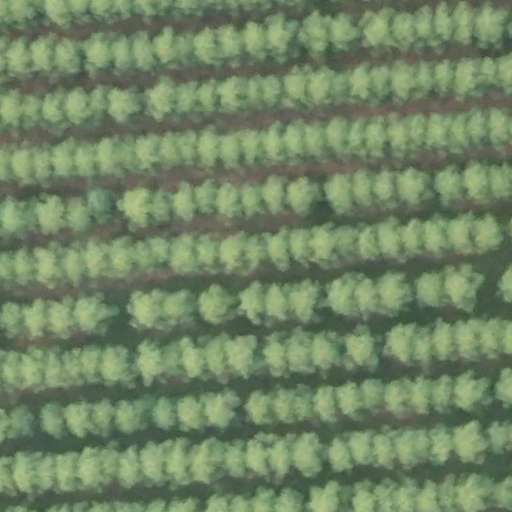eucalipto: (195, 280, 244, 326), (442, 263, 483, 314), (121, 285, 165, 332), (373, 270, 412, 320), (279, 173, 322, 218), (301, 221, 342, 268), (339, 325, 380, 372), (348, 271, 385, 322), (473, 1, 509, 52), (191, 435, 227, 486), (396, 162, 434, 210), (72, 293, 114, 336), (430, 161, 466, 211), (200, 388, 241, 431), (270, 384, 312, 425), (449, 423, 490, 465), (323, 9, 363, 52), (378, 212, 409, 267), (116, 184, 152, 230), (320, 170, 354, 218), (453, 371, 490, 415), (358, 5, 394, 50), (264, 12, 297, 61), (290, 432, 325, 478), (289, 278, 323, 325), (226, 332, 259, 380), (161, 437, 192, 488), (295, 10, 330, 55), (284, 323, 313, 377), (136, 338, 167, 388), (165, 228, 197, 276), (74, 443, 106, 491), (138, 440, 168, 491), (462, 159, 493, 208), (263, 224, 294, 273), (325, 270, 356, 319), (303, 65, 338, 108), (215, 75, 250, 118), (8, 140, 39, 188), (35, 192, 68, 237), (35, 396, 67, 442), (85, 183, 120, 225), (50, 34, 83, 78), (100, 342, 133, 386), (192, 228, 222, 276), (160, 287, 196, 327), (308, 378, 338, 426), (256, 173, 289, 216), (446, 213, 476, 260), (452, 52, 479, 104), (413, 270, 447, 311), (9, 449, 38, 497), (330, 380, 363, 422), (379, 378, 411, 421), (261, 332, 289, 381), (453, 318, 484, 362), (386, 325, 419, 366), (128, 30, 158, 75), (391, 59, 421, 104), (469, 53, 501, 95), (168, 175, 196, 223), (429, 317, 457, 365), (115, 444, 143, 492), (26, 31, 55, 77), (447, 1, 476, 47), (84, 31, 115, 74), (211, 179, 242, 222), (46, 296, 77, 339), (194, 124, 221, 173), (237, 278, 264, 327), (178, 336, 208, 380), (173, 390, 203, 434), (217, 228, 245, 275), (367, 167, 399, 208), (470, 214, 506, 250), (358, 220, 386, 266), (427, 372, 455, 418), (241, 387, 272, 428), (241, 16, 268, 63), (6, 35, 34, 80), (146, 78, 174, 123), (108, 86, 143, 122), (60, 242, 88, 287), (34, 244, 62, 289), (425, 424, 453, 469), (268, 435, 294, 483), (347, 59, 376, 102), (388, 9, 418, 50), (262, 281, 291, 323), (61, 196, 93, 234), (51, 448, 78, 493), (191, 26, 219, 69), (288, 223, 314, 269), (152, 25, 179, 69), (238, 179, 266, 221), (422, 215, 450, 257), (393, 430, 421, 472), (244, 437, 272, 479), (384, 112, 409, 159), (239, 226, 262, 277), (217, 22, 243, 67), (282, 66, 308, 111), (309, 332, 339, 371), (428, 1, 455, 44), (48, 138, 75, 181), (347, 165, 374, 208), (20, 297, 47, 340), (412, 1, 436, 49), (108, 232, 133, 278), (134, 130, 162, 171), (129, 235, 157, 276), (259, 119, 285, 163), (83, 234, 109, 278), (93, 135, 120, 177), (346, 428, 375, 467), (327, 113, 351, 160), (146, 186, 174, 226), (369, 431, 397, 471), (57, 345, 84, 386), (426, 112, 450, 158), (359, 377, 388, 415), (80, 343, 105, 387), (223, 437, 248, 481), (113, 398, 140, 438), (31, 139, 53, 188), (113, 130, 138, 173), (7, 403, 36, 440), (65, 86, 91, 127), (283, 117, 307, 161), (172, 78, 199, 117), (303, 120, 328, 162), (220, 131, 245, 173), (42, 85, 68, 125), (432, 56, 455, 101), (402, 216, 425, 261), (42, 346, 65, 391), (151, 393, 178, 431), (327, 437, 354, 475), (9, 246, 35, 285), (466, 106, 488, 152), (64, 402, 92, 438), (72, 138, 97, 178), (158, 129, 181, 172), (110, 34, 134, 75), (349, 114, 369, 163), (330, 68, 355, 107), (90, 398, 115, 437), (407, 377, 432, 416), (448, 110, 470, 153), (370, 63, 393, 103), (89, 83, 109, 128), (367, 114, 386, 161), (245, 72, 266, 114), (241, 127, 263, 167), (177, 127, 198, 168), (408, 111, 427, 154), (23, 93, 43, 132), (263, 73, 284, 110), (198, 79, 219, 115)
